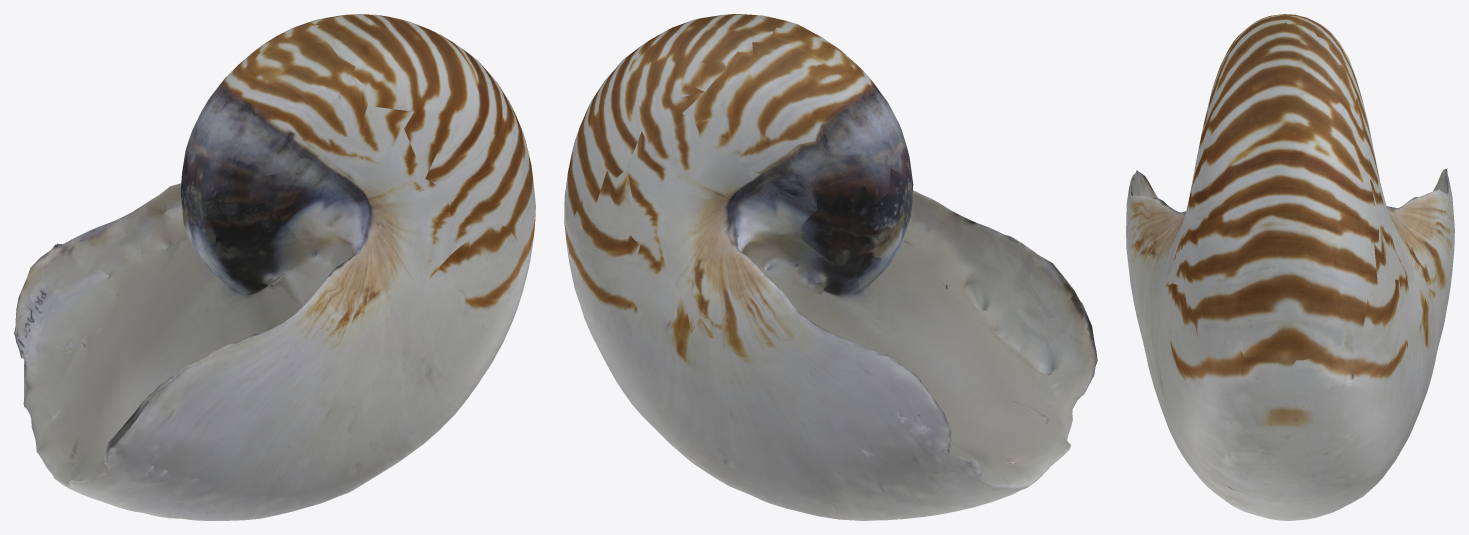
The model's file is nautilus.glb.
The picture shows the model from 3 angles, left to right: view 1: azimuth 30°, elevation 25°; view 2: azimuth 150°, elevation 25°; view 3: azimuth 270°, elevation 25°; orthographic projection. The views are drawn at different scales.
Visible parts, largest first — view 1: body; view 2: body; view 3: body.
Boxes of the visible parts, x1,y1,x2,y2 form: body: [14, 14, 535, 520]; body: [564, 14, 1097, 520]; body: [1126, 14, 1454, 520].
Bounding box in the file's own units: 1 × 0.9381 × 0.5661.
1 material, 1 textured.
